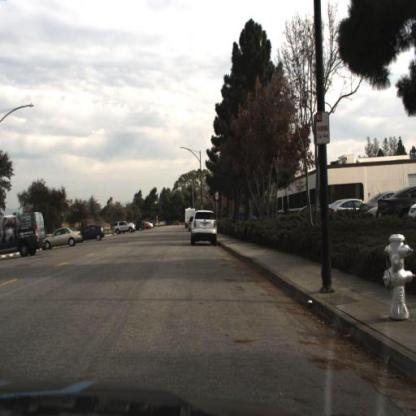car: (1, 209, 48, 261), (189, 207, 220, 247), (43, 224, 84, 253), (79, 223, 108, 245), (113, 217, 138, 238)
truck: (1, 209, 47, 255)
